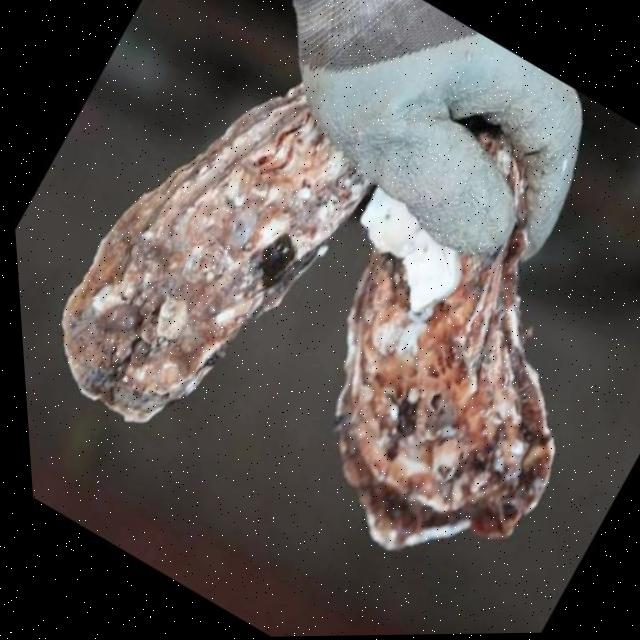Oyster-Closed: (46, 82, 386, 424)
Oyster-Indeterminate: (313, 124, 565, 551)
